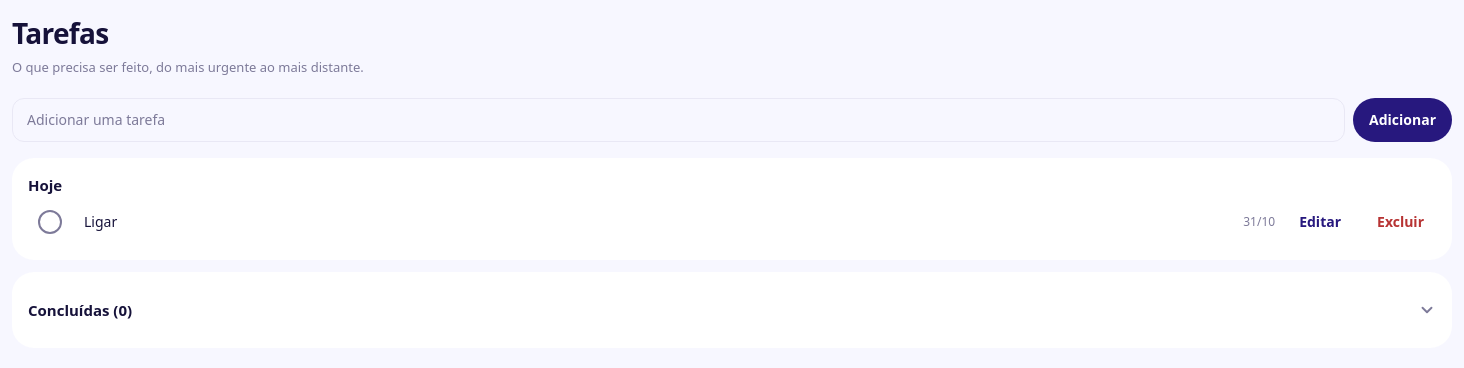
Scenario: TarefasPage › cancelarConfirmacaoNaoExclui
Click the button with aria-label "Excluir tarefa Ligar" at (1400, 222), box x1=1365 y1=200 x2=1436 y2=244
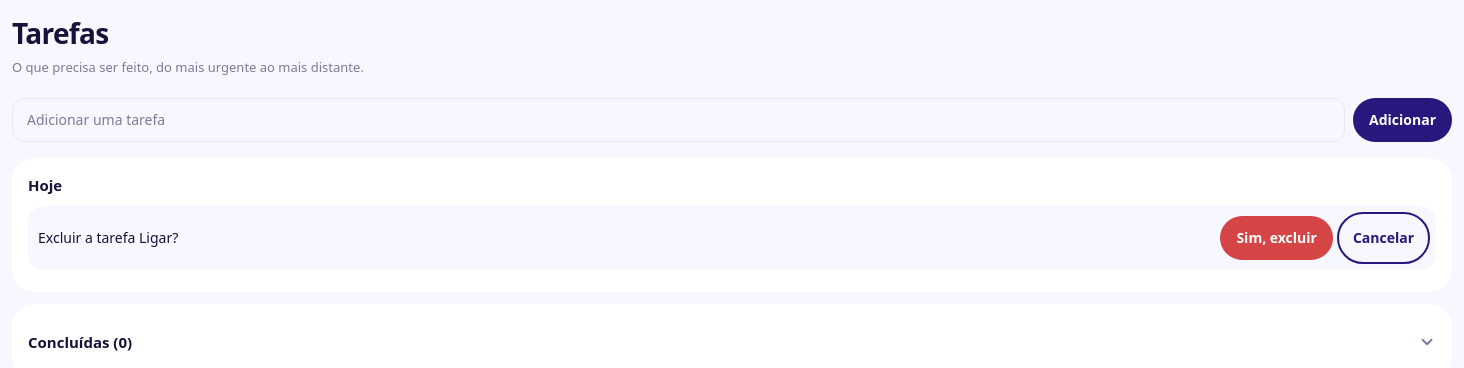
Click the button "Cancelar" at (1383, 238), box x1=1341 y1=216 x2=1426 y2=260
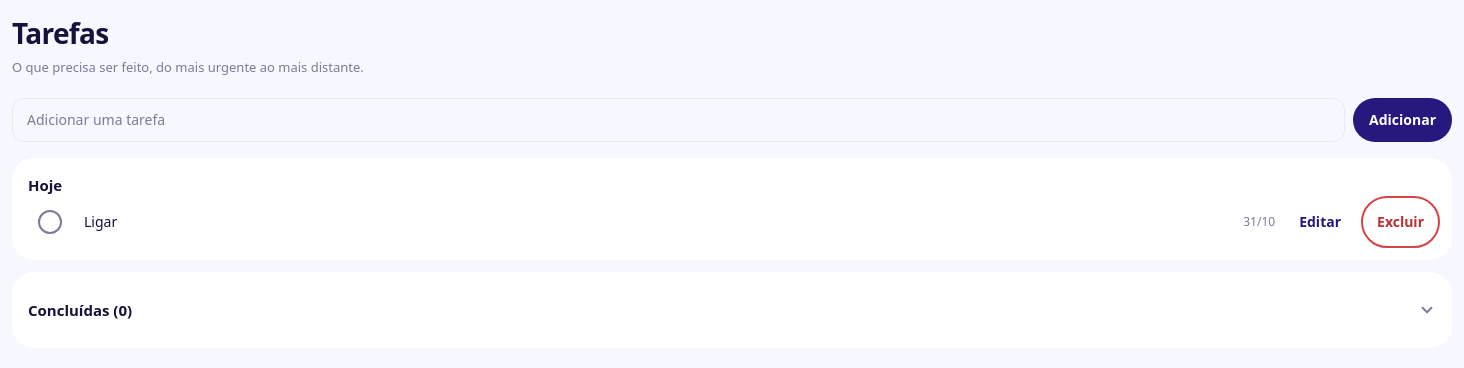
Check: the button with aria-label "Excluir tarefa Ligar" is shown, box x1=1365 y1=200 x2=1436 y2=244
